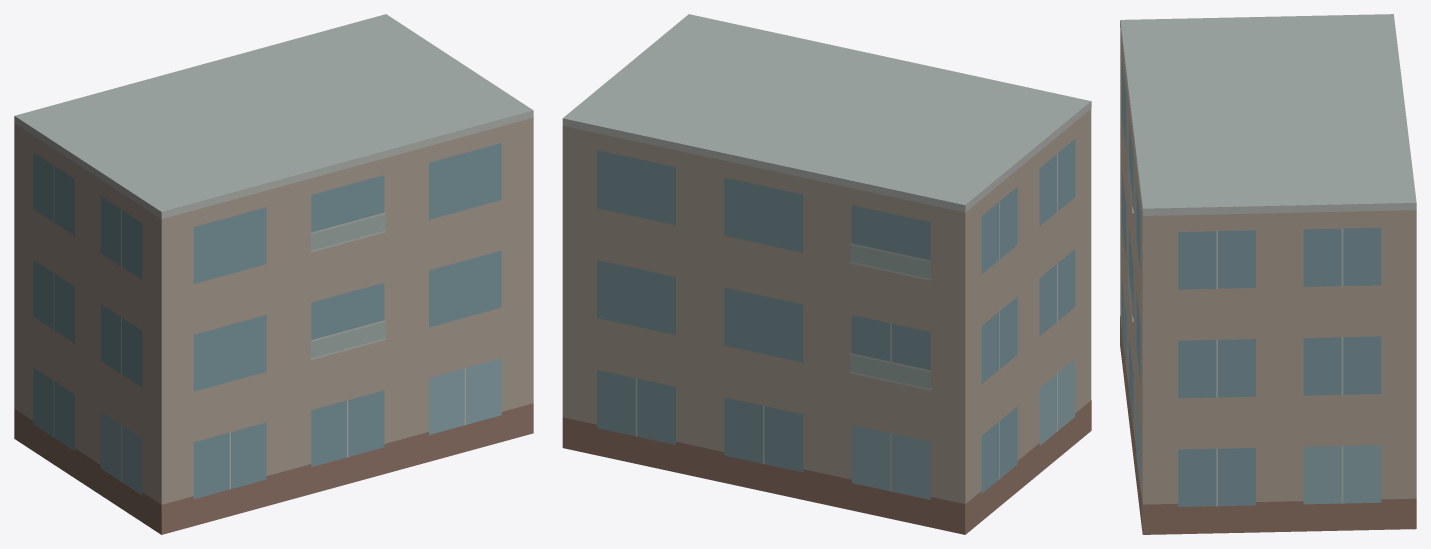
Rendered from survey-upis-33022440.glb.
3 views of the same model, side by side, from view 1: azimuth 30°, elevation 25°; view 2: azimuth 150°, elevation 25°; view 3: azimuth 270°, elevation 25° (orthographic). The views are drawn at different scales.
Parts seen in each view (by area): view 1: survey-upis-33022440.tmp; view 2: survey-upis-33022440.tmp; view 3: survey-upis-33022440.tmp.
Part boxes in pixels (x1,y1,x2,y2): survey-upis-33022440.tmp: [14, 14, 533, 534]; survey-upis-33022440.tmp: [562, 14, 1091, 534]; survey-upis-33022440.tmp: [1120, 14, 1416, 534].
Bounding box in the file's own units: 13.96 × 10.9 × 8.99.
